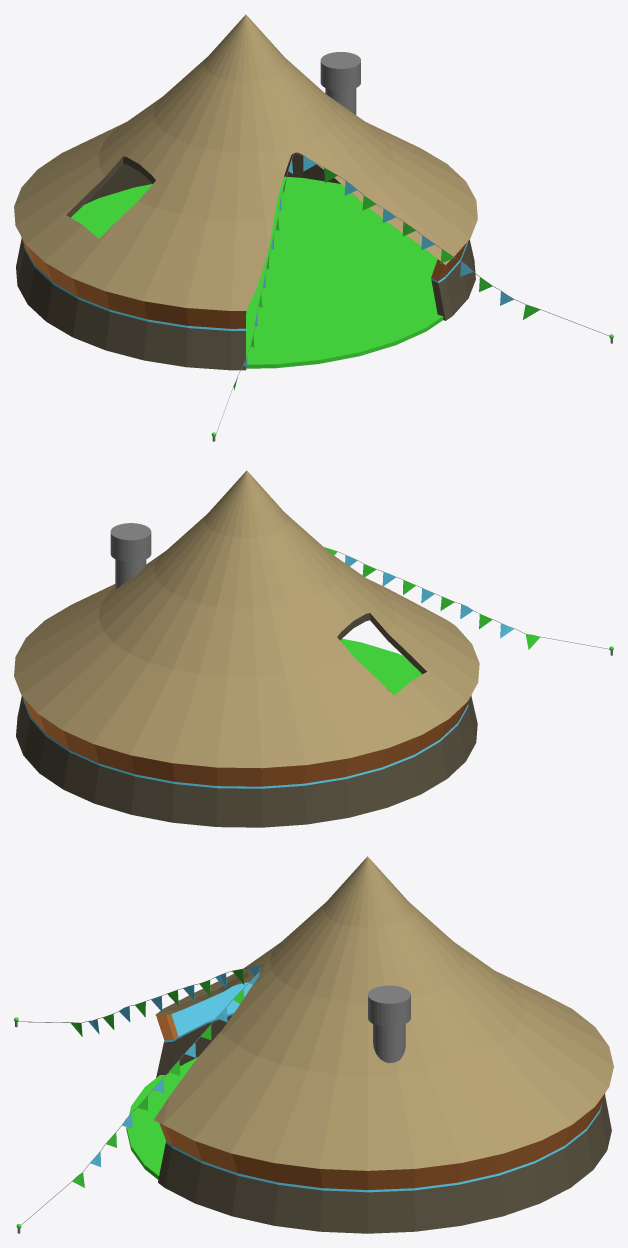
File: hut3.glb
3 views of the same model, one above another, from view 1: azimuth 30°, elevation 25°; view 2: azimuth 150°, elevation 25°; view 3: azimuth 270°, elevation 25° (orthographic). The views are drawn at different scales.
Parts seen in each view (by area): view 1: Hut; view 2: Hut; view 3: Hut.
Part boxes in pixels (x1=…): Hut: x1=14, y1=14, x2=613, y2=441; Hut: x1=14, y1=470, x2=613, y2=827; Hut: x1=14, y1=856, x2=613, y2=1233.
Bounding box in the file's own units: 11.35 × 6.94 × 13.76.
